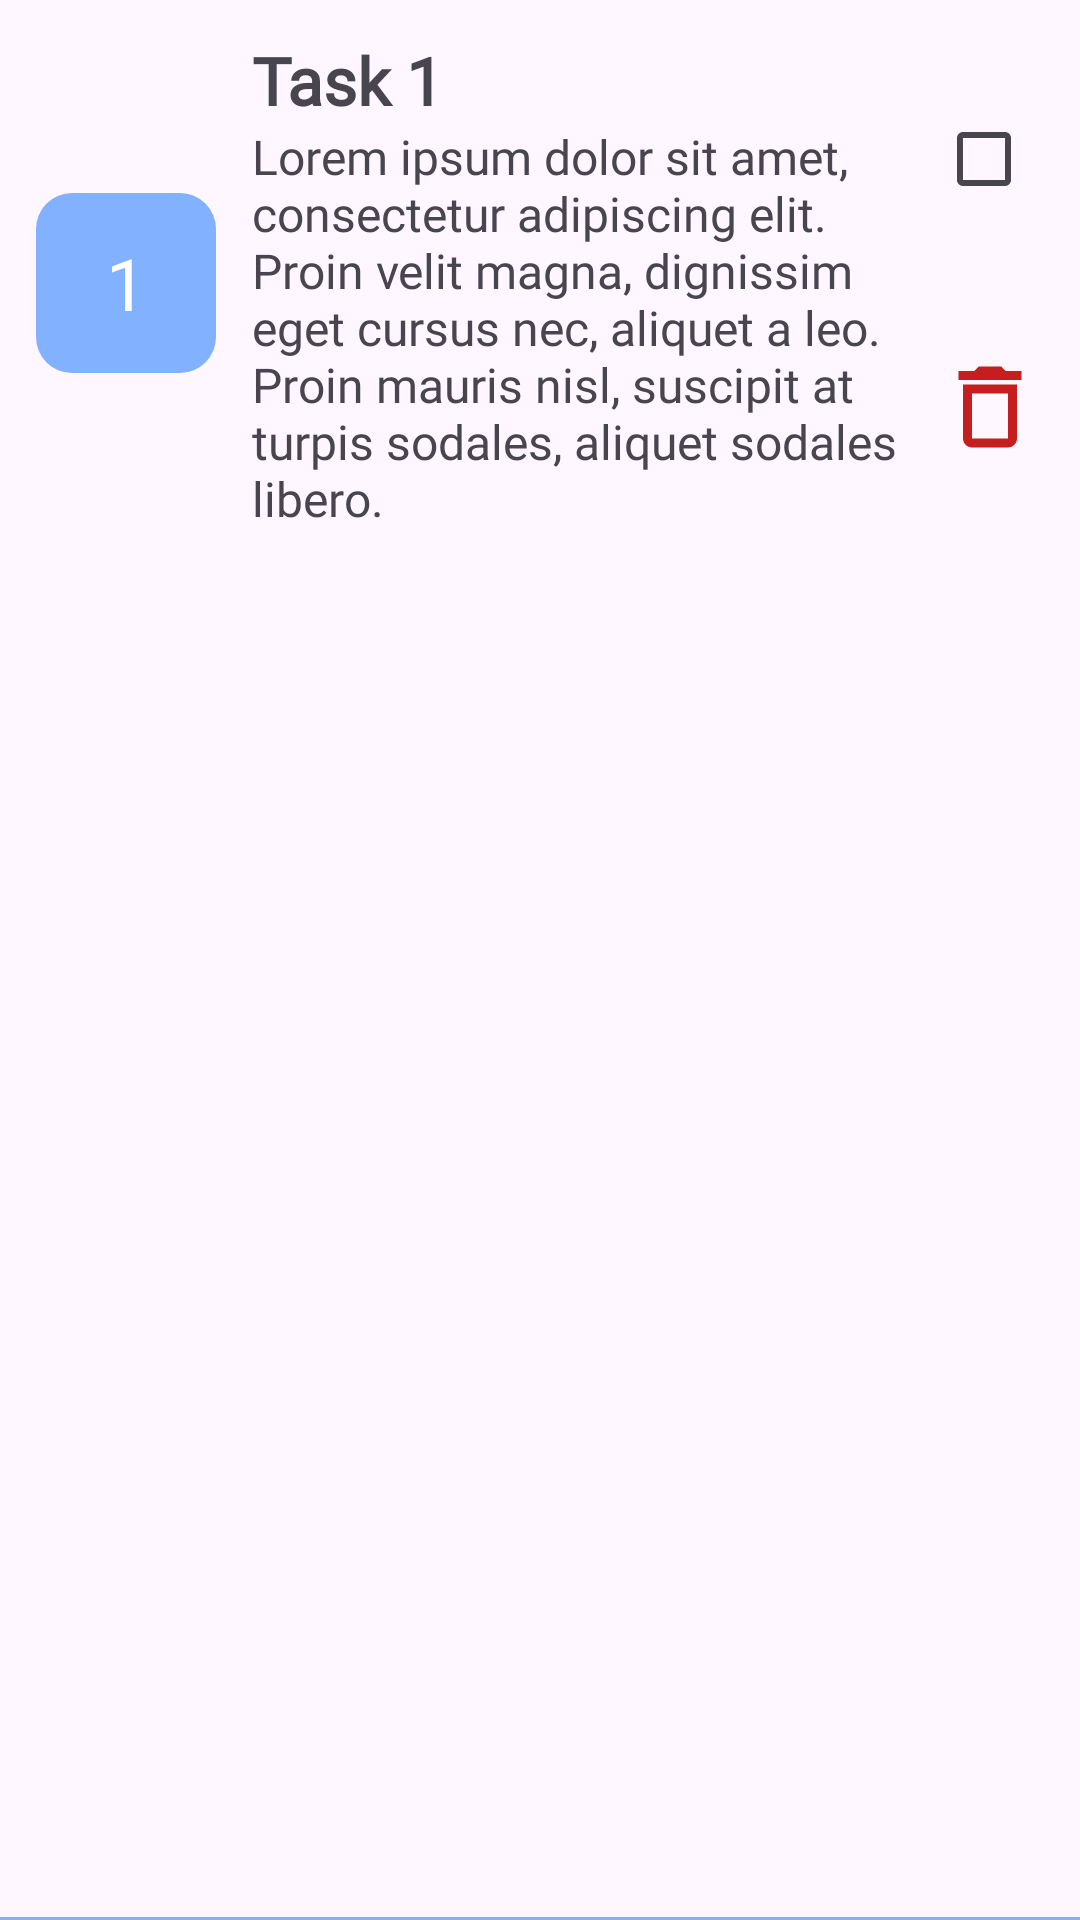

Icon click points for this 1080 x 1920 phone screenshot, format point (x, y):
delete: point (990, 407)
